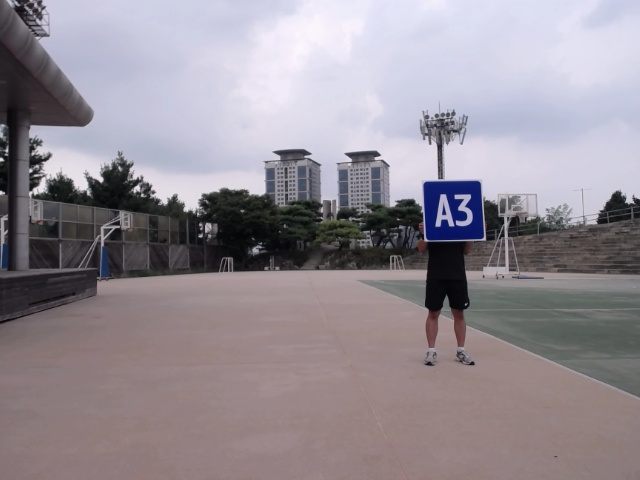delivery_a3: (421, 179, 486, 242)
